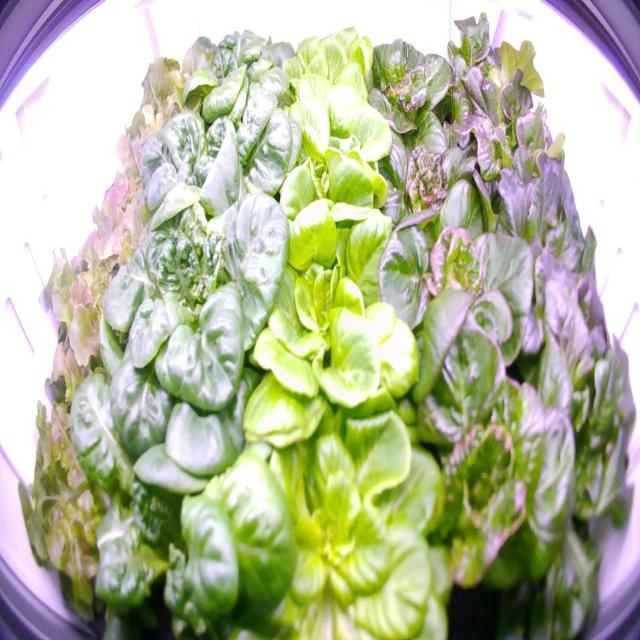Ready: (57, 343, 302, 630), (209, 358, 458, 640), (85, 182, 310, 491), (388, 330, 591, 614), (230, 185, 437, 450), (364, 167, 562, 387), (132, 77, 306, 225), (168, 9, 310, 176), (264, 68, 402, 221), (360, 98, 498, 243), (364, 20, 464, 147), (275, 15, 385, 124)
